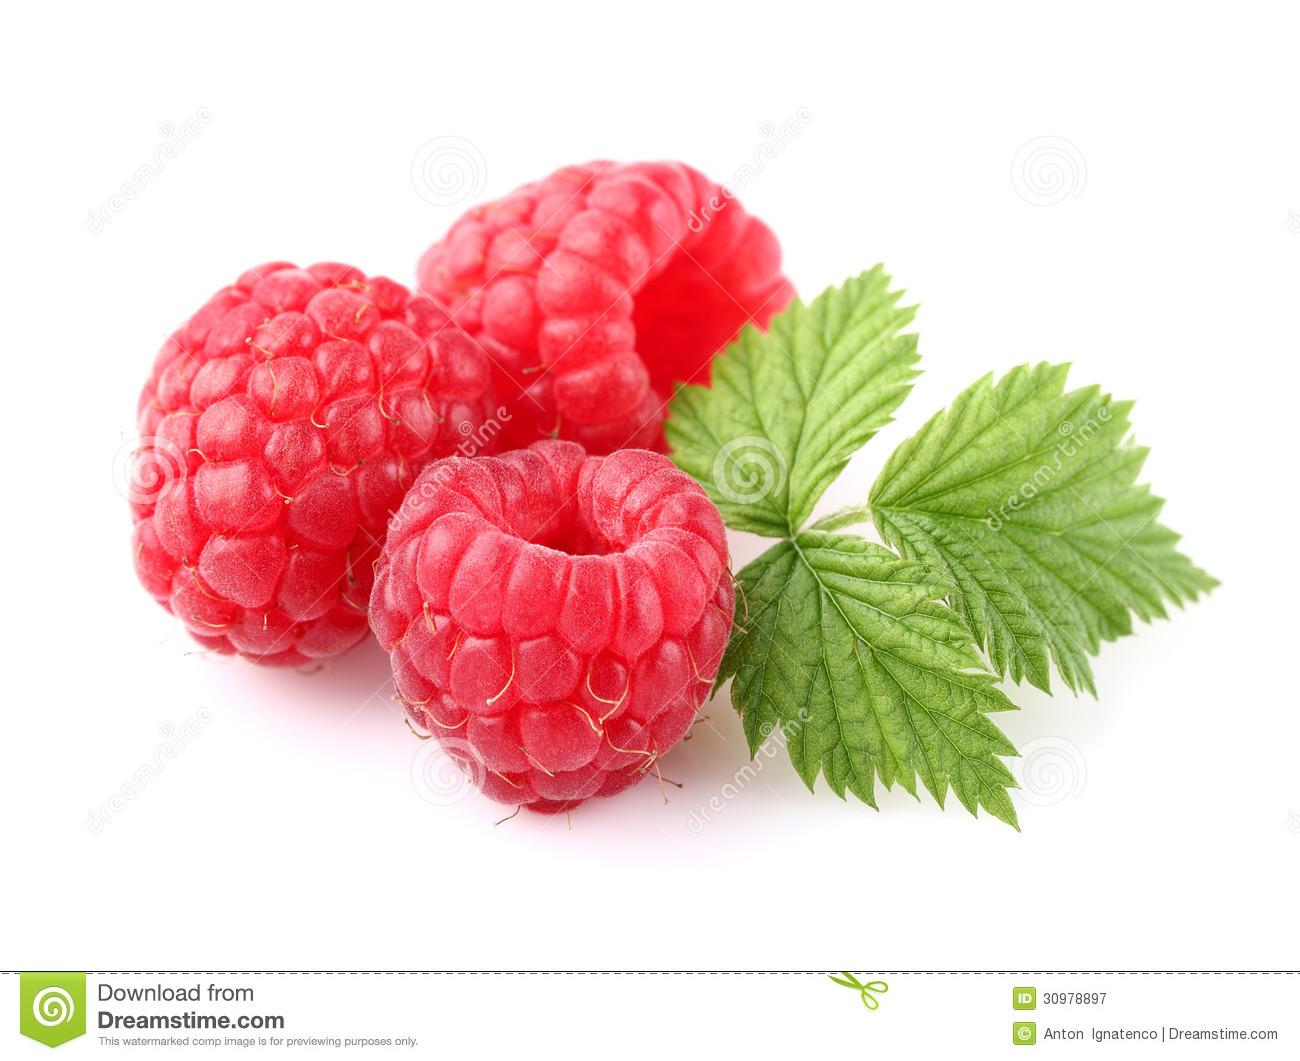Raspberry leaf: (880, 363, 1230, 678), (719, 523, 1035, 833), (663, 251, 932, 529)
